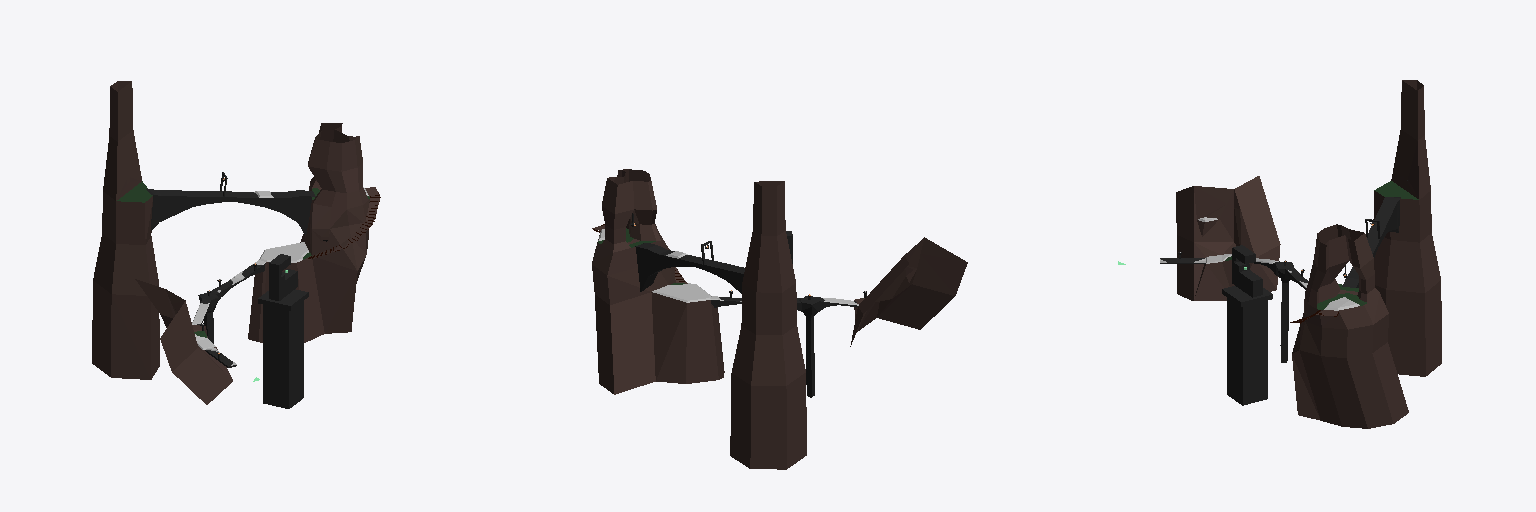
The model's file is world2.obj.
3 renders of one model, left to right at view 1: azimuth 30°, elevation 25°; view 2: azimuth 150°, elevation 25°; view 3: azimuth 270°, elevation 25°, orthographic.
Visible parts, largest first — view 1: ph_mountain4, ph_mountain2, statue1, ph_mountain3, mountain1, ph_bridge5, ph_mountain1, mountain4, mountain2, bridge5; view 2: ph_mountain4, ph_mountain2, ph_mountain3, ph_mountain1, mountain1, ph_bridge5, bridge2, mountain2, bridge5; view 3: ph_mountain4, ph_mountain2, ph_mountain1, statue1, ph_mountain3, mountain1, mountain4, ph_bridge5, ph_bridge2.
Boxes of the visible parts, x1=… form: ph_mountain4: x1=92, y1=81, x2=159, y2=379; ph_mountain2: x1=248, y1=181, x2=379, y2=342; statue1: x1=258, y1=254, x2=308, y2=408; ph_mountain3: x1=308, y1=123, x2=369, y2=208; mountain1: x1=135, y1=279, x2=226, y2=400; ph_bridge5: x1=146, y1=189, x2=315, y2=235; ph_mountain1: x1=136, y1=279, x2=232, y2=404; mountain4: x1=116, y1=130, x2=141, y2=200; mountain2: x1=259, y1=193, x2=380, y2=270; bridge5: x1=149, y1=172, x2=313, y2=233; ph_mountain4: x1=730, y1=181, x2=806, y2=469; ph_mountain2: x1=592, y1=225, x2=724, y2=394; ph_mountain3: x1=598, y1=169, x2=660, y2=252; ph_mountain1: x1=850, y1=237, x2=967, y2=346; mountain1: x1=854, y1=269, x2=954, y2=331; ph_bridge5: x1=635, y1=243, x2=744, y2=293; bridge2: x1=801, y1=297, x2=857, y2=397; mountain2: x1=593, y1=224, x2=710, y2=302; bridge5: x1=636, y1=241, x2=744, y2=291; ph_mountain4: x1=1373, y1=80, x2=1441, y2=376; ph_mountain2: x1=1292, y1=293, x2=1408, y2=428; ph_mountain1: x1=1177, y1=176, x2=1280, y2=300; statue1: x1=1222, y1=245, x2=1272, y2=405; ph_mountain3: x1=1305, y1=224, x2=1379, y2=309; mountain1: x1=1176, y1=186, x2=1276, y2=300; mountain4: x1=1391, y1=130, x2=1418, y2=198; ph_bridge5: x1=1342, y1=197, x2=1399, y2=287; ph_bridge2: x1=1254, y1=261, x2=1293, y2=345.
Size of the model in its own units: 70.87 by 63.23 by 67.31.